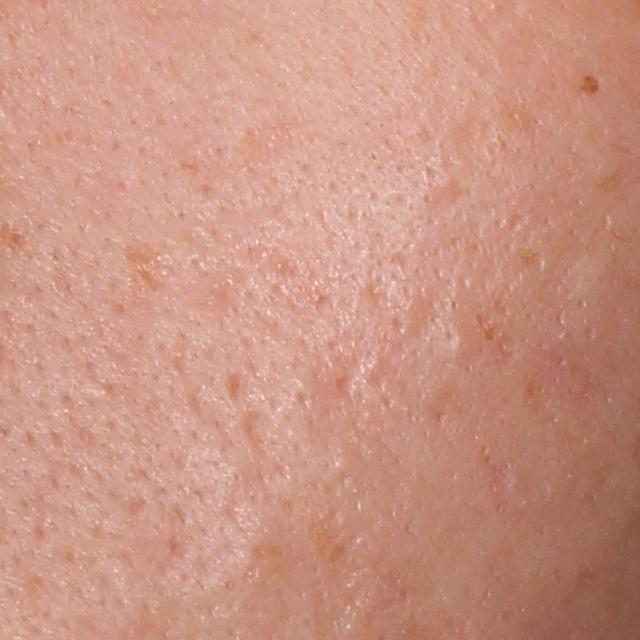atrophic_scar: (353, 270, 472, 410), (234, 243, 307, 290), (242, 412, 277, 463), (225, 368, 249, 403)
melasma: (578, 73, 600, 95)
